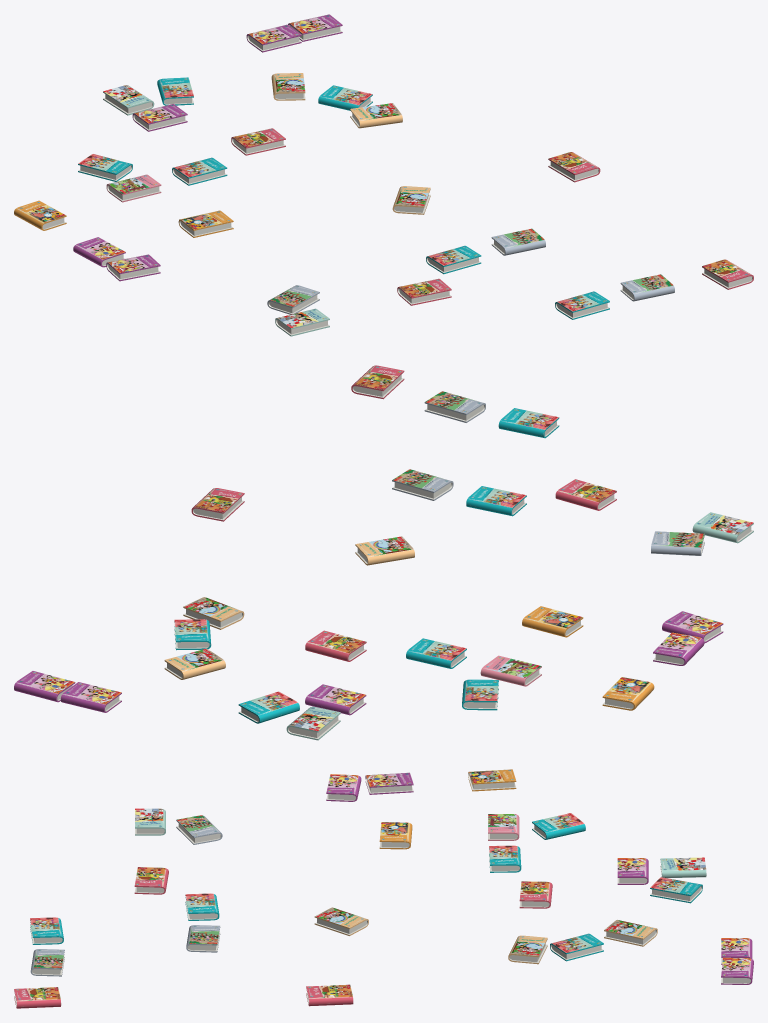
Rendered from buku cetak.fbx.
The picture shows the model from 3 angles, top to bottom: view 1: azimuth 30°, elevation 25°; view 2: azimuth 150°, elevation 25°; view 3: azimuth 270°, elevation 25°; orthographic projection. The views are drawn at different scales.
Visible parts, largest first — view 1: buku cetak.008; view 2: buku cetak.008; view 3: buku cetak.008.
Part boxes in pixels (<box>): buku cetak.008: <box>14,14,753,336</box>; buku cetak.008: <box>14,365,753,740</box>; buku cetak.008: <box>14,769,753,1008</box>.
Bounding box in the file's own units: 295 × 4.82 × 394.
